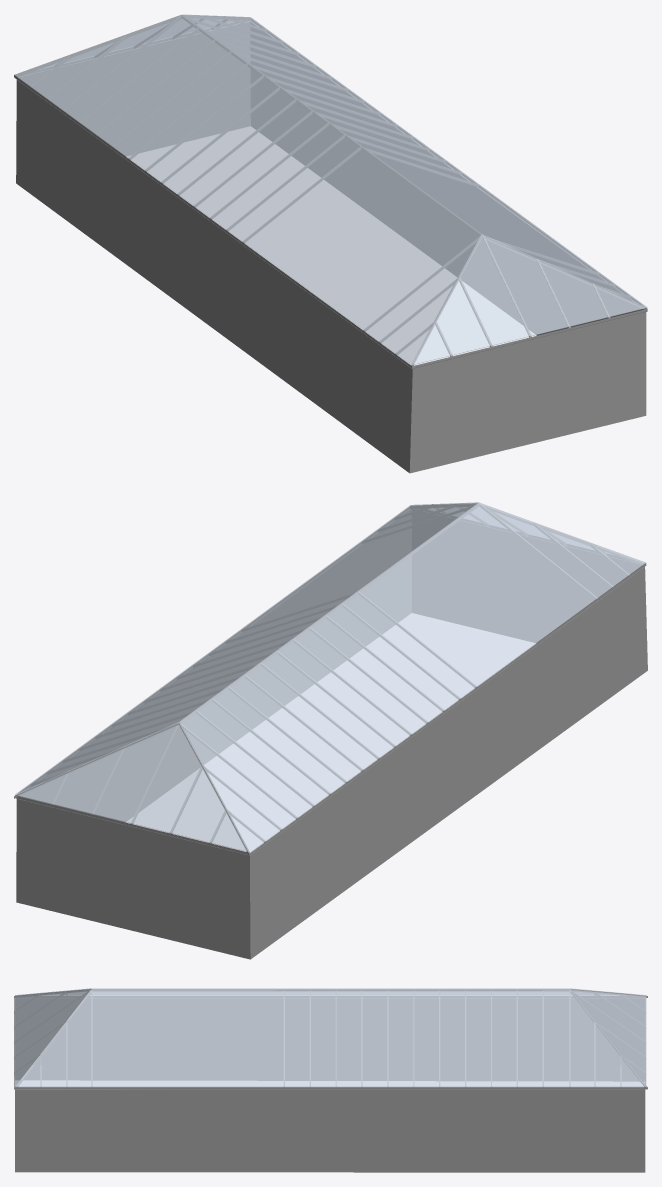
The model's file is skylight.fbx.
3 views of the same model, one above another, from view 1: azimuth 30°, elevation 25°; view 2: azimuth 150°, elevation 25°; view 3: azimuth 270°, elevation 25° (orthographic). The views are drawn at different scales.
Visible parts, largest first — view 1: Wall, Glass1, Metal; view 2: Wall, Glass1, Metal; view 3: Wall, Glass1, Metal.
Part boxes in pixels (bbox=[...]): Wall: bbox=[15, 21, 647, 473]; Glass1: bbox=[15, 14, 647, 365]; Metal: bbox=[14, 15, 647, 368]; Wall: bbox=[16, 509, 647, 959]; Glass1: bbox=[15, 502, 645, 852]; Metal: bbox=[14, 503, 646, 855]; Wall: bbox=[14, 998, 645, 1172]; Glass1: bbox=[15, 988, 646, 1087]; Metal: bbox=[14, 989, 647, 1089].
Size of the model in its own units: 457 by 322 by 1327.
